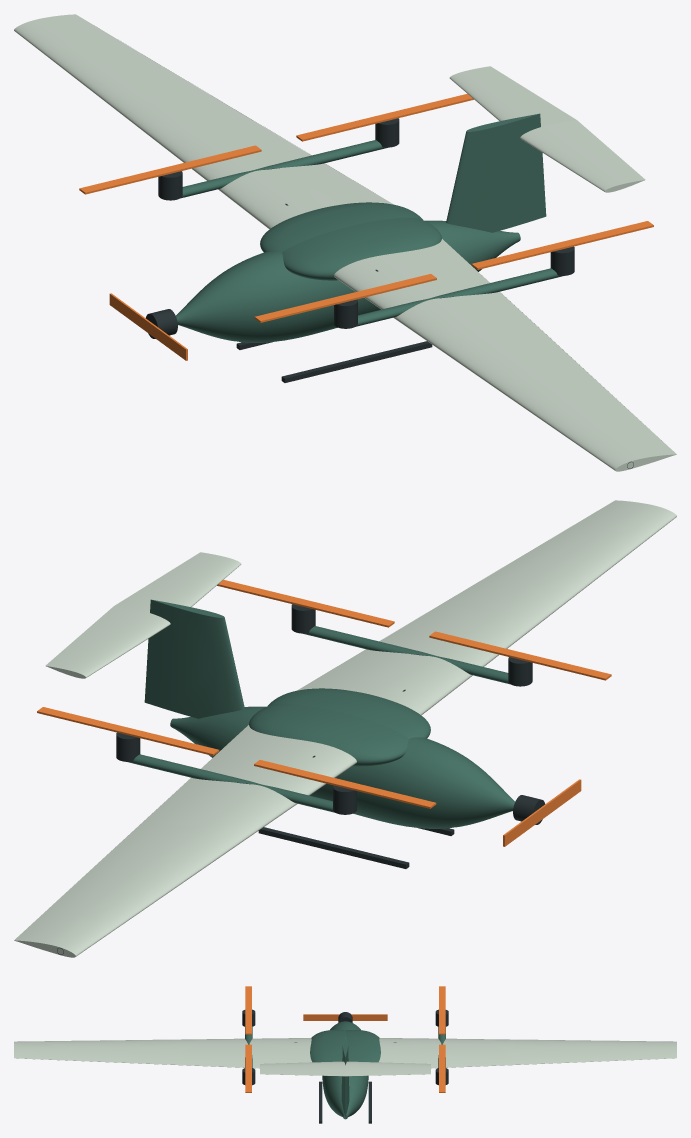
The model's file is control-05-model.glb.
3 renders of one model, top to bottom at view 1: azimuth 30°, elevation 25°; view 2: azimuth 150°, elevation 25°; view 3: azimuth 270°, elevation 25°, orthographic. The views are drawn at different scales.
Visible parts, largest first — view 1: wing-1, wing1, fuselage, fin, root_fairing-1, tail-1, root_fairing1, tail1, boom_fairing-1, boom_fairing1, prop_-1_200.0, prop_1_200.0 (+4 smaller); view 2: wing1, wing-1, fuselage, fin, root_fairing1, tail1, root_fairing-1, tail-1, boom_fairing1, boom_fairing-1, prop_-1_200.0, prop_1_200.0 (+4 smaller); view 3: wing-1, wing1, fuselage, tail-1, tail1, root_fairing-1, root_fairing1, cruise_prop, fin, prop_-1_200.0, prop_-1_700.0, prop_1_200.0 (+1 smaller).
Boxes of the visible parts, left/top/right/bottom form: wing-1: left=334, top=239, right=676, bottom=471; wing1: left=14, top=14, right=393, bottom=229; fuselage: left=176, top=220, right=520, bottom=342; fin: left=446, top=113, right=546, bottom=232; root_fairing-1: left=282, top=217, right=441, bottom=280; tail-1: left=520, top=120, right=645, bottom=192; root_fairing1: left=260, top=202, right=422, bottom=252; tail1: left=449, top=66, right=576, bottom=126; boom_fairing-1: left=355, top=268, right=562, bottom=326; boom_fairing1: left=180, top=140, right=387, bottom=198; prop_-1_200.0: left=254, top=274, right=436, bottom=322; prop_1_200.0: left=79, top=145, right=261, bottom=194; wing1: left=14, top=725, right=356, bottom=957; wing-1: left=297, top=500, right=676, bottom=715; fuselage: left=170, top=706, right=514, bottom=828; fin: left=144, top=599, right=244, bottom=718; root_fairing1: left=249, top=703, right=408, bottom=766; tail1: left=45, top=606, right=170, bottom=678; root_fairing-1: left=268, top=688, right=430, bottom=738; tail-1: left=114, top=552, right=241, bottom=612; boom_fairing1: left=128, top=754, right=335, bottom=812; boom_fairing-1: left=303, top=626, right=510, bottom=684; prop_-1_200.0: left=429, top=631, right=611, bottom=680; prop_1_200.0: left=254, top=760, right=436, bottom=808; wing-1: left=14, top=1038, right=311, bottom=1068; wing1: left=379, top=1038, right=676, bottom=1068; fuselage: left=322, top=1021, right=368, bottom=1119; tail-1: left=260, top=1061, right=345, bottom=1076; tail1: left=345, top=1061, right=430, bottom=1076; root_fairing-1: left=310, top=1030, right=345, bottom=1062; root_fairing1: left=345, top=1030, right=380, bottom=1062; cruise_prop: left=303, top=1014, right=387, bottom=1020; fin: left=341, top=1038, right=349, bottom=1116; prop_-1_200.0: left=245, top=986, right=251, bottom=1034; prop_-1_700.0: left=245, top=1044, right=251, bottom=1092; prop_1_200.0: left=439, top=986, right=445, bottom=1034.
Size of the model in its own units: 989 by 405 by 2400.
